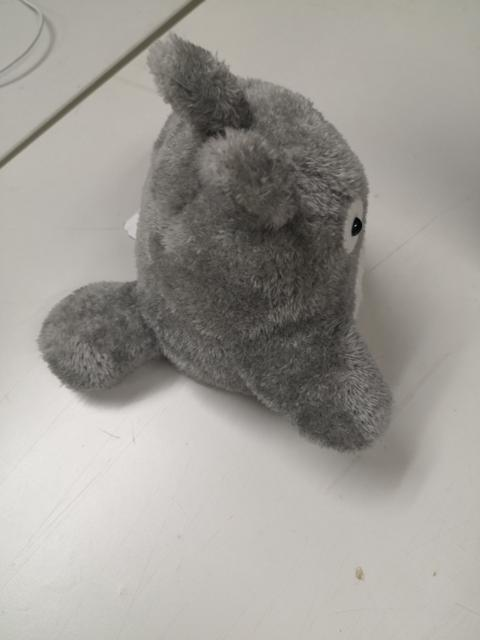totoro: (33, 27, 403, 467)
